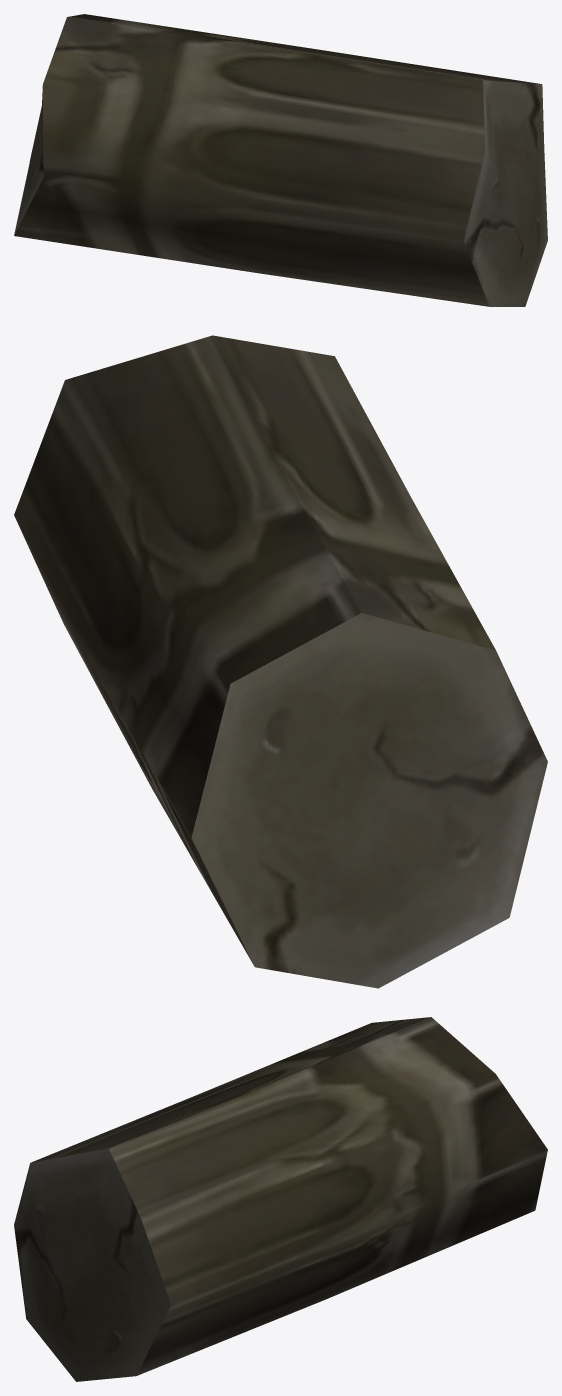
3 views of the same model, one above another, from view 1: azimuth 30°, elevation 25°; view 2: azimuth 150°, elevation 25°; view 3: azimuth 270°, elevation 25° (orthographic). The views are drawn at different scales.
Parts seen in each view (by area): view 1: fx_wj13; view 2: fx_wj13; view 3: fx_wj13.
Part boxes in pixels (left/top/right/bottom): fx_wj13: left=14, top=14, right=547, bottom=306; fx_wj13: left=14, top=335, right=547, bottom=988; fx_wj13: left=14, top=1017, right=547, bottom=1381.
Size of the model in its own units: 123 by 64.15 by 136.
1 material, 1 textured.
